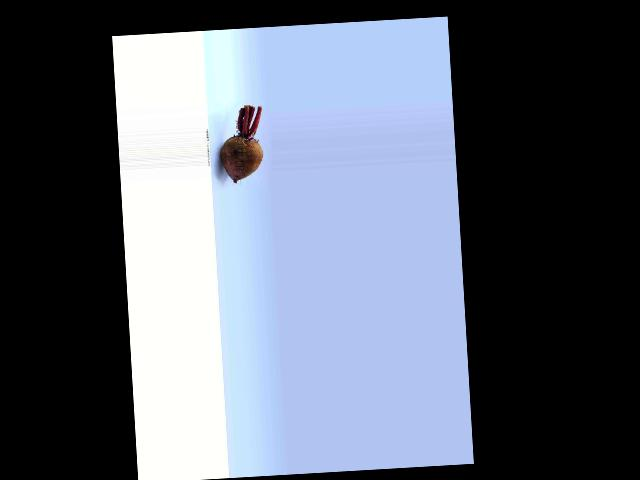beet: (218, 105, 264, 182)
